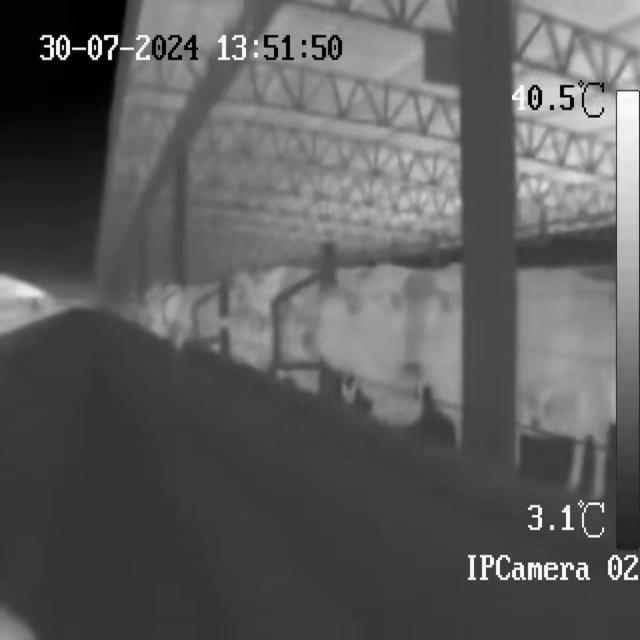head: (396, 271, 444, 383), (426, 290, 438, 324)
